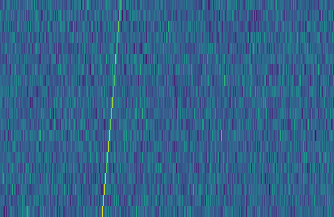signal: (95, 0, 124, 217)
